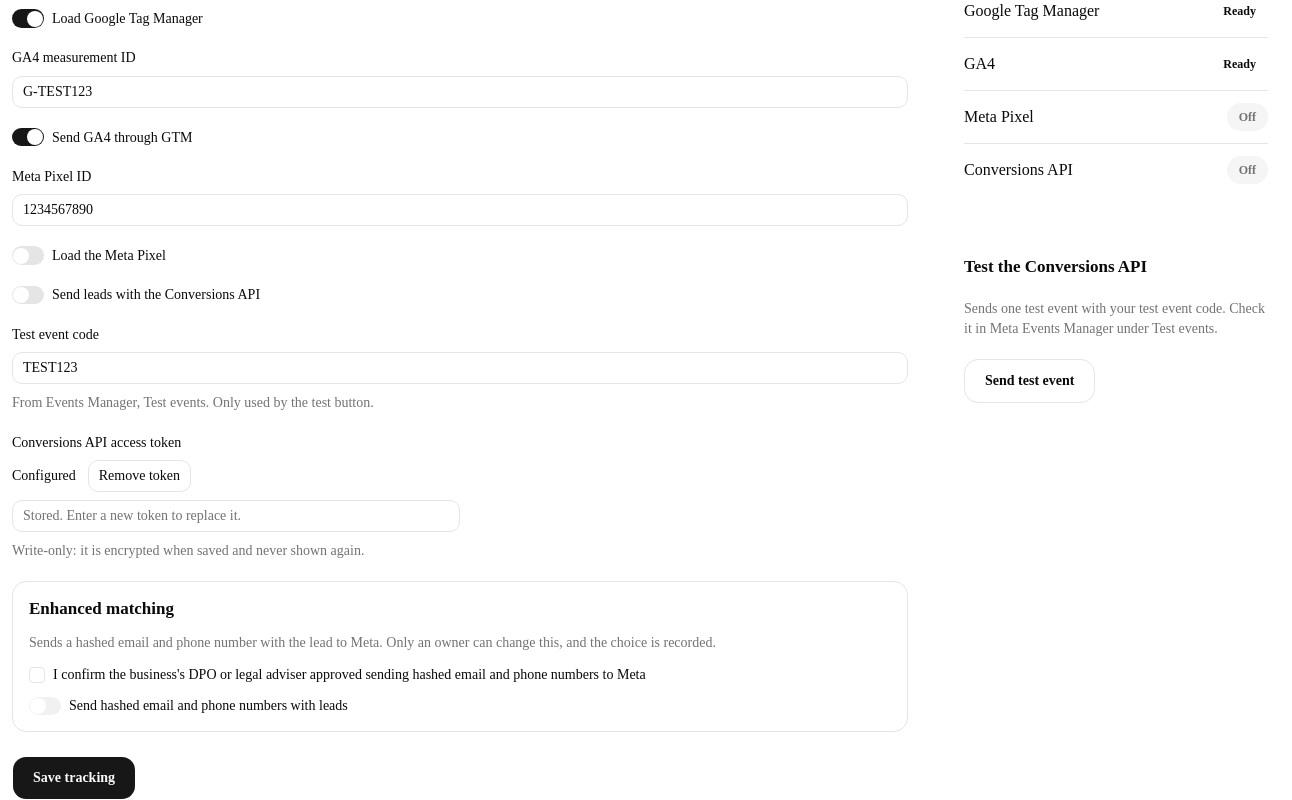
Test: TrackingView › maps a 422 onto the field
(page scrolled)
Click the button "Save tracking" at (74, 778), box x1=12 y1=756 x2=136 y2=799
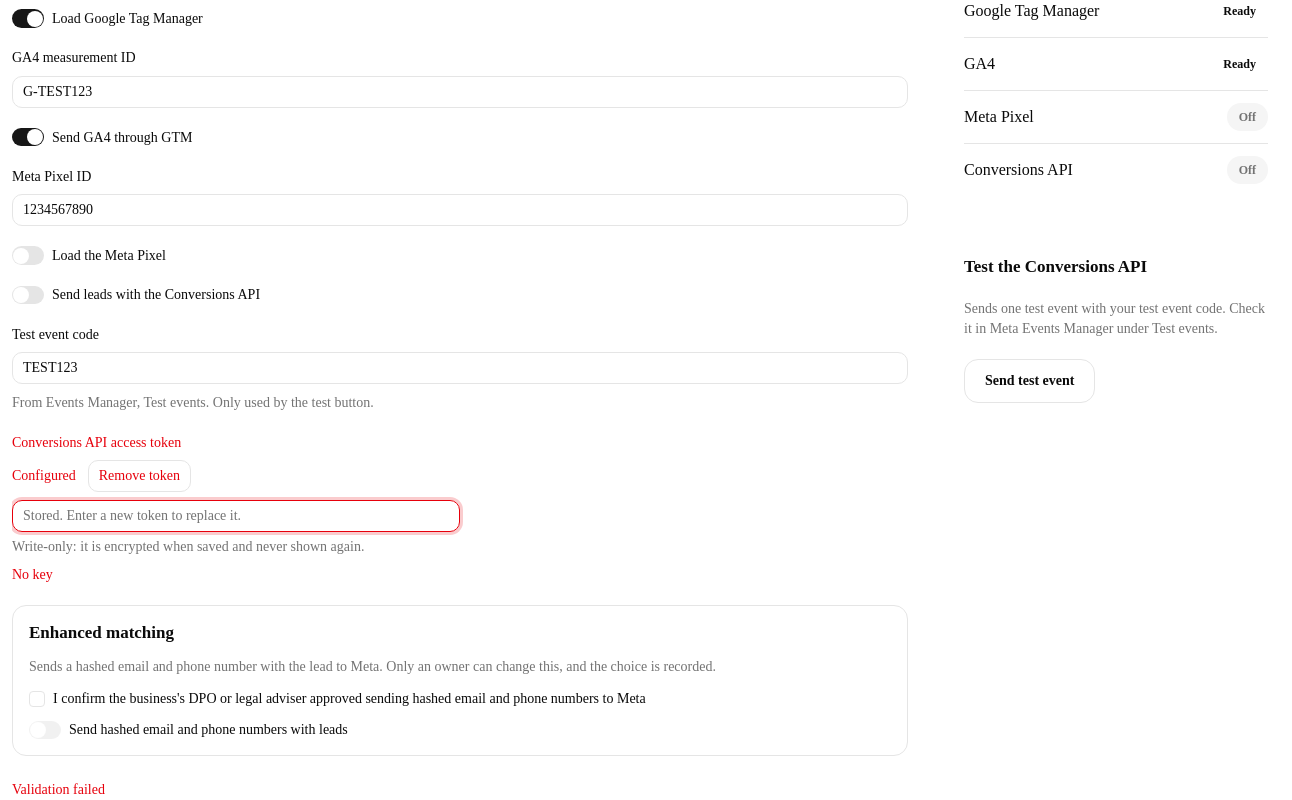
Expected: the text "No key" is shown, x1=12 y1=567 x2=53 y2=582
